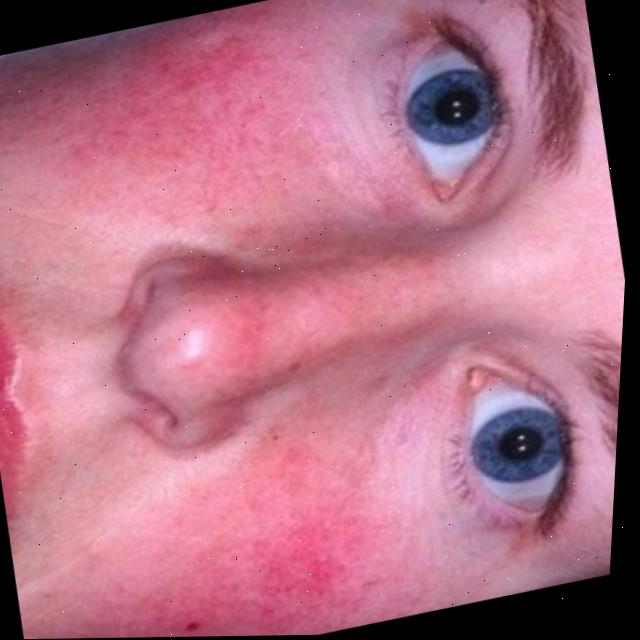Rosacea: (61, 384, 434, 639), (27, 8, 304, 244)
